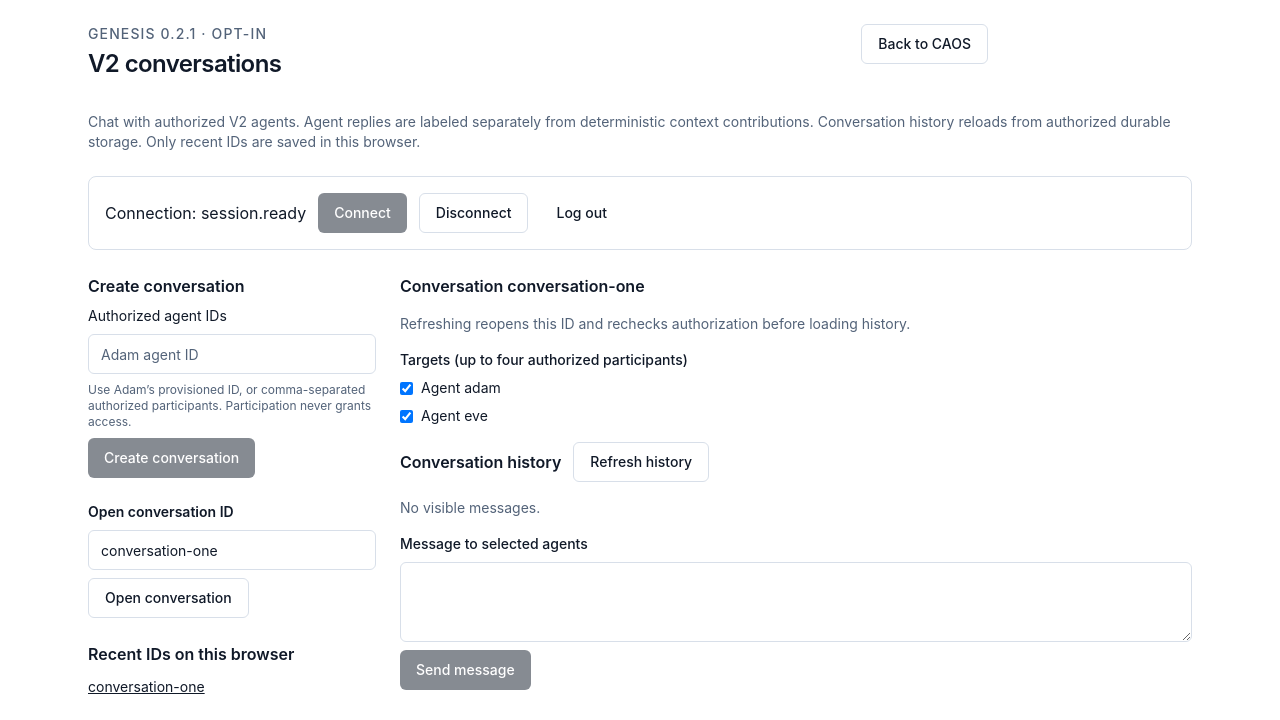
Test case: reopens the persisted ID with fresh authorization and labels each deterministic participant
Type "Hello Adam" into the text box labelled "Message to selected agents" at (796, 602), box [400,562,1192,642]
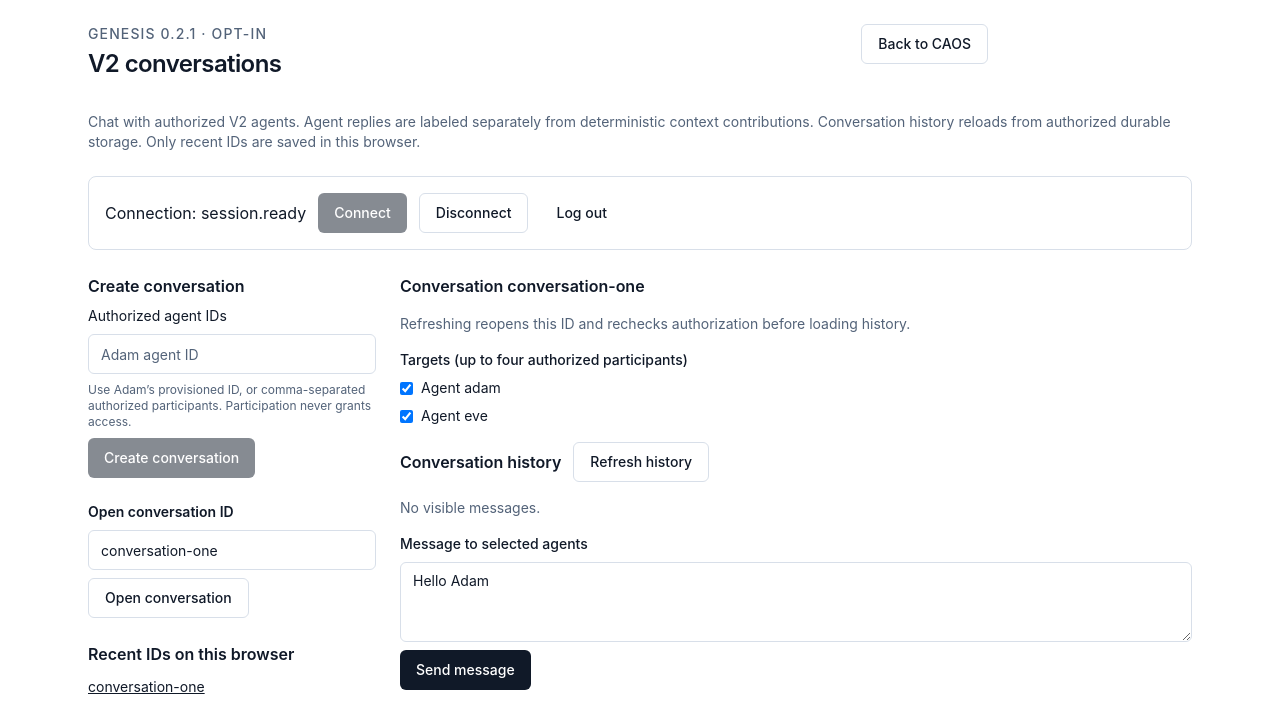
Click the button "Send message" at (465, 670), box [400,650,531,690]
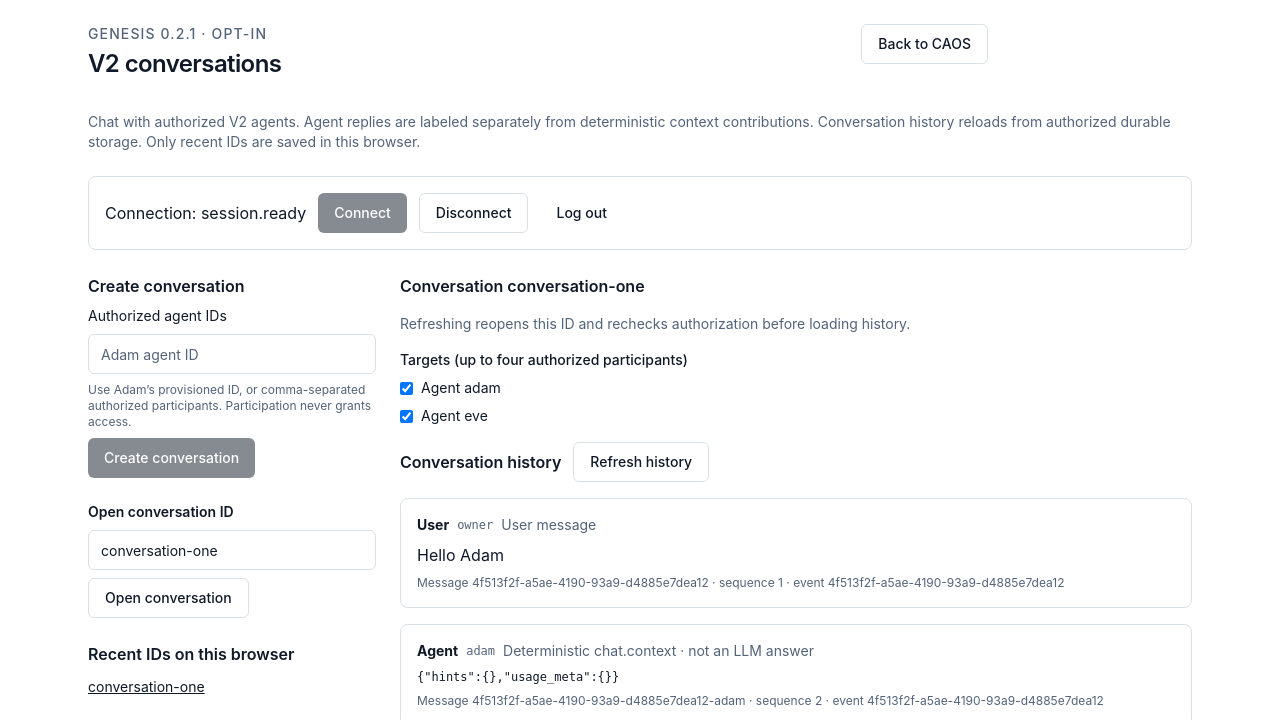
Result: the text "Hello Adam" is shown at [417,545,504,565]
Result: the text "{\"hints\":{},\"usage_meta\":{}}" is shown 2 times
Result: the text "Agent" is shown 2 times
